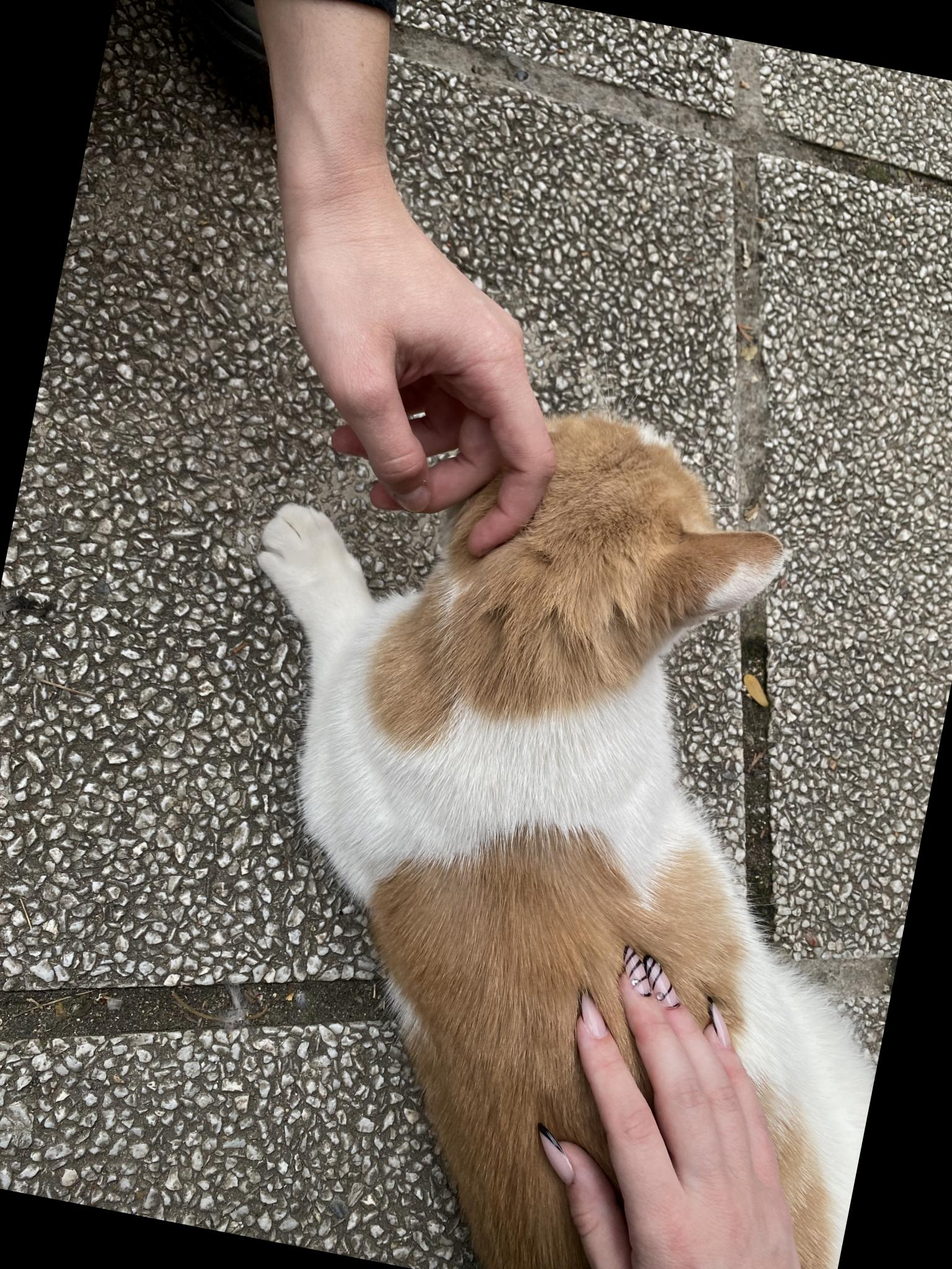macka: (126, 353, 952, 1269)
